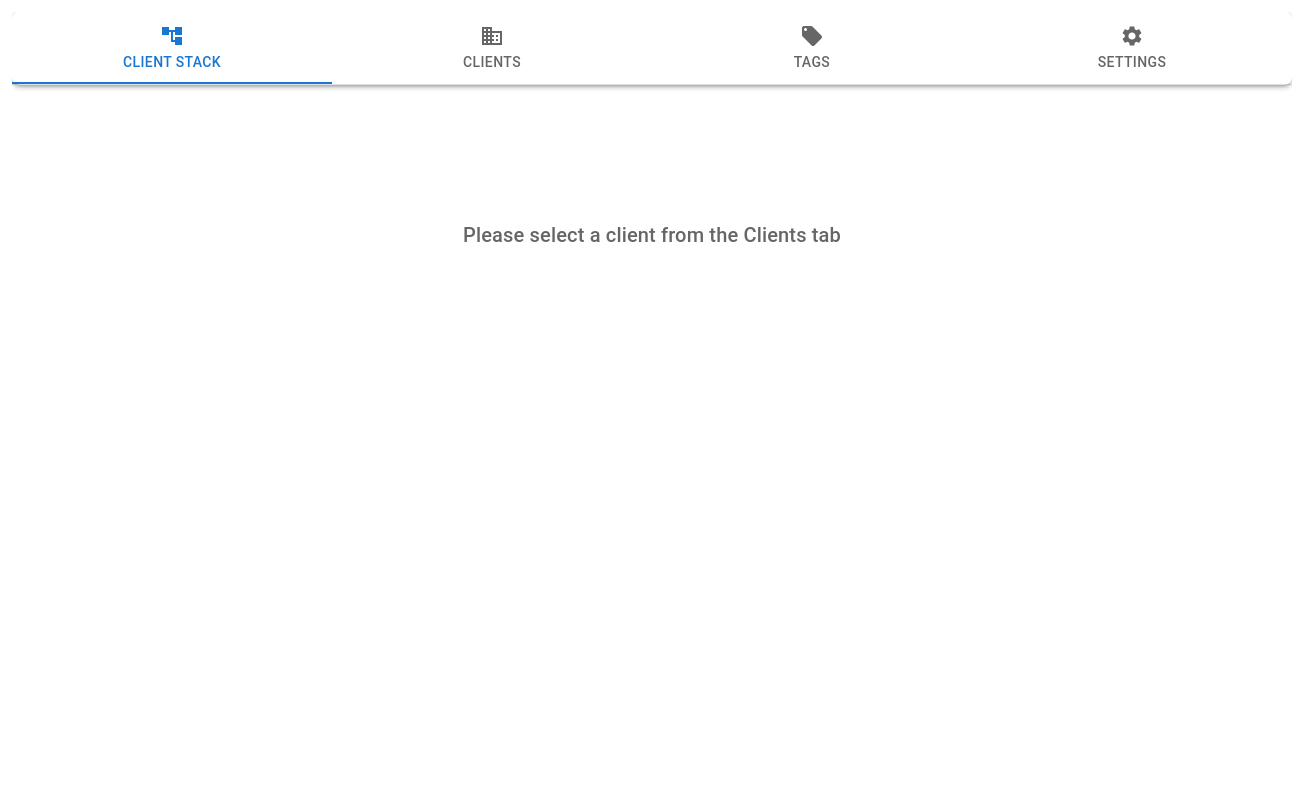
Test: TabNavigation › switches to the Settings tab when clicked
The width and height of the screenshot is (1304, 812).
Click on the Settings tab
Click the tab "Settings". click: click(1132, 48)
box: [972, 12, 1292, 84]
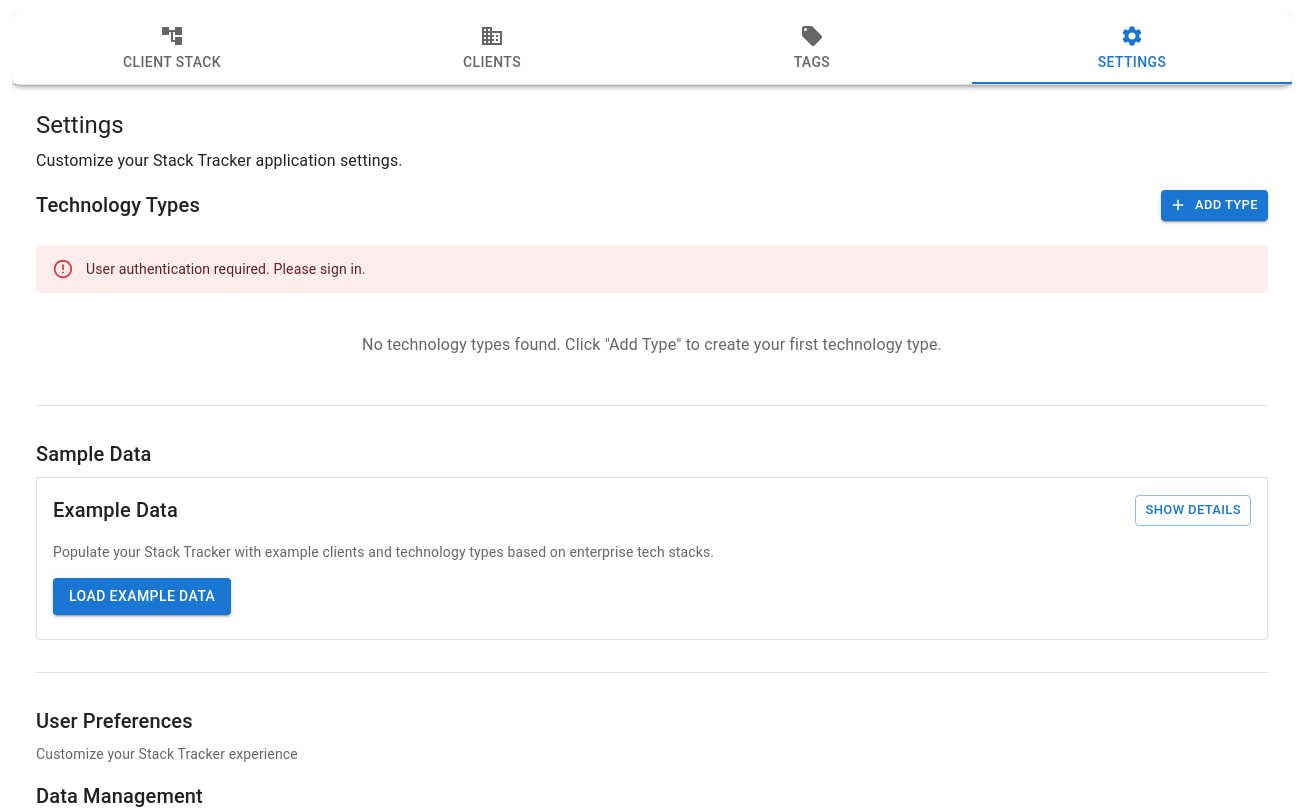
Result: the heading "User Preferences" is shown at [36, 709, 193, 733]
